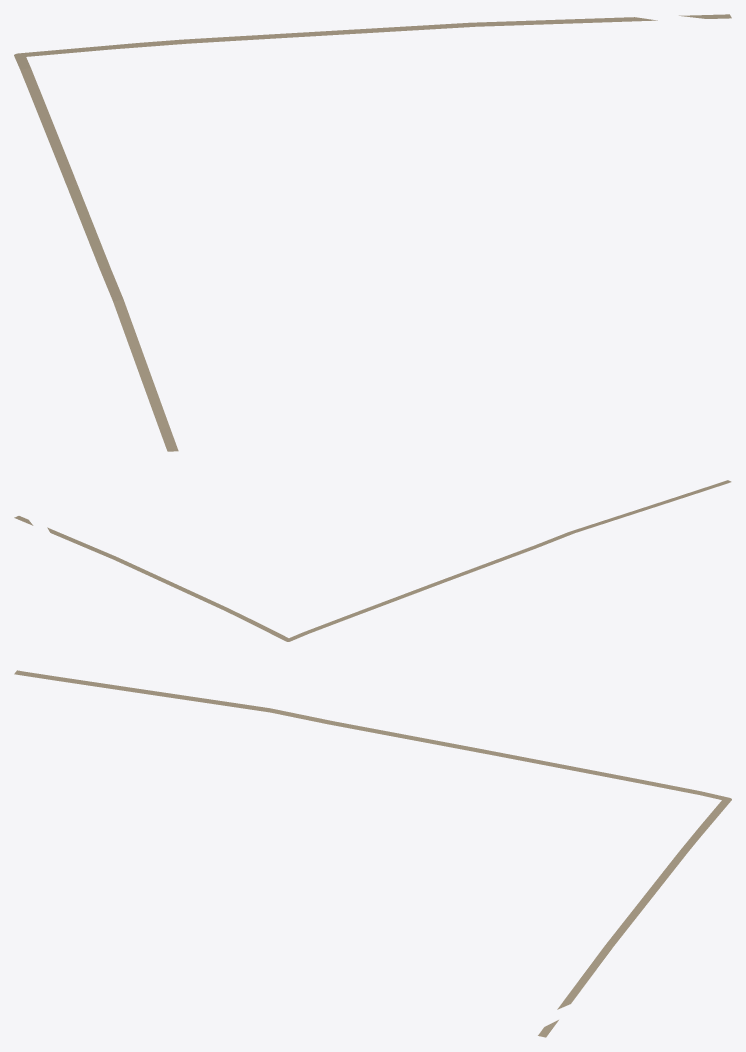
File: farm_18_19_track.glb
3 views of the same model, one above another, from view 1: azimuth 30°, elevation 25°; view 2: azimuth 150°, elevation 25°; view 3: azimuth 270°, elevation 25° (orthographic). The views are drawn at different scales.
Visible parts, largest first — view 1: geometry_0; view 2: geometry_0; view 3: geometry_0.
Boxes of the visible parts, x1,y1,x2,y2 form: geometry_0: (14,14,731,451); geometry_0: (14,480,731,641); geometry_0: (14,670,731,1037).
Bounding box in the file's own units: 301 × 11.81 × 267.
